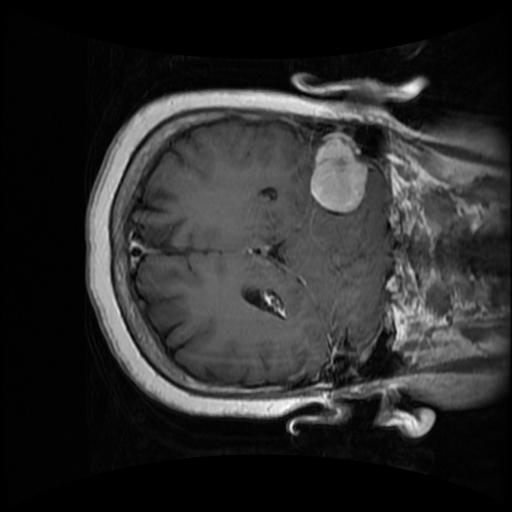meningioma: (308, 133, 368, 212)
